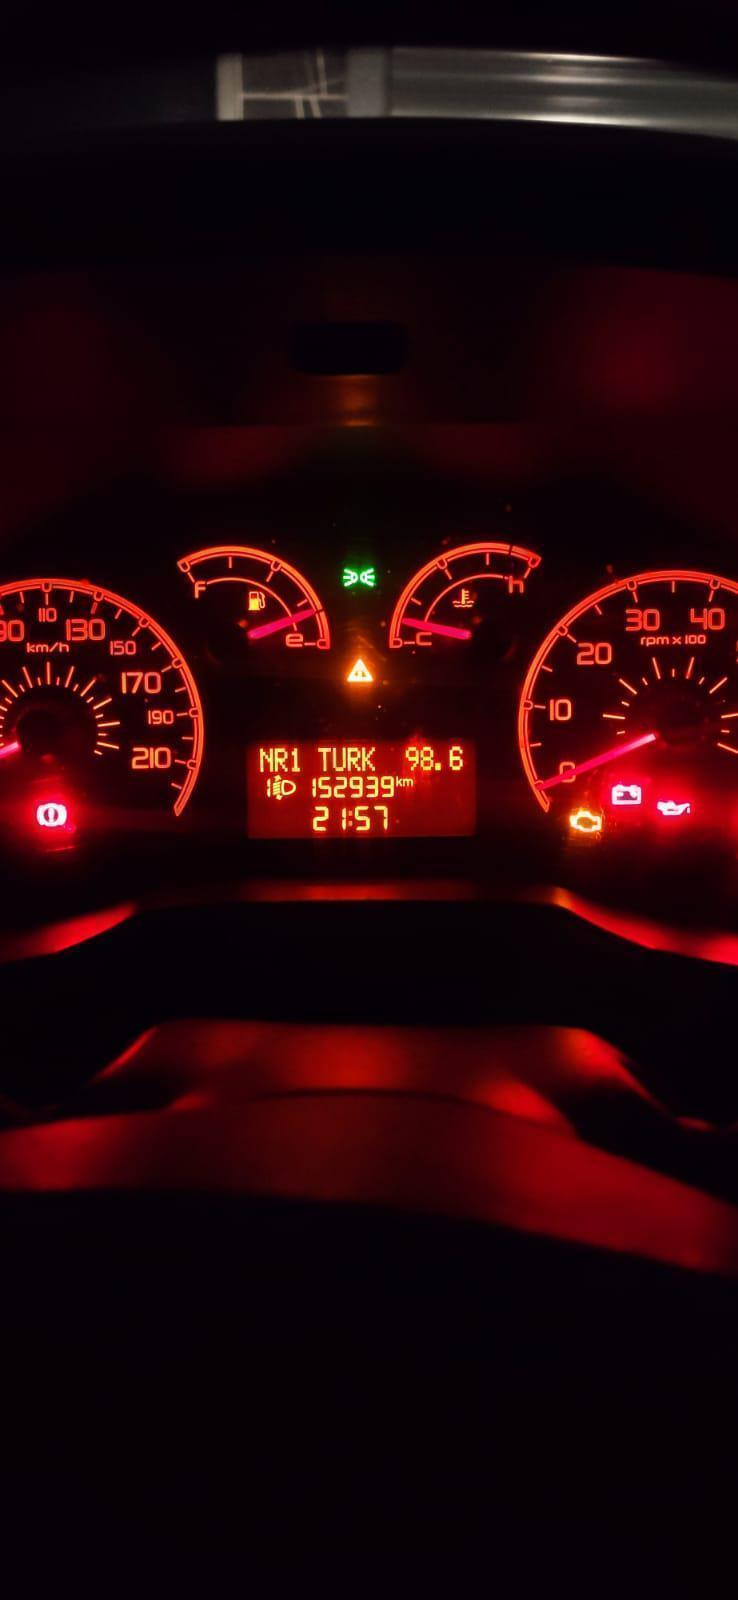,: (434, 760, 443, 773)
1: (289, 745, 302, 772), (339, 805, 346, 830), (310, 776, 317, 800), (265, 776, 270, 799)
2: (312, 804, 329, 833), (334, 776, 347, 799)
3: (365, 774, 378, 798)
5: (354, 805, 371, 832), (317, 776, 332, 800)
6: (448, 745, 464, 771)
7: (373, 804, 389, 830)
8: (420, 744, 434, 771)
9: (348, 776, 364, 799), (404, 746, 419, 771), (379, 774, 394, 798)
X: (273, 746, 288, 772), (346, 745, 361, 771), (258, 745, 273, 772), (316, 746, 331, 772), (361, 745, 376, 771), (332, 746, 346, 771), (402, 777, 414, 787), (347, 808, 353, 827), (395, 774, 402, 787)
odometer: (241, 733, 482, 842)
